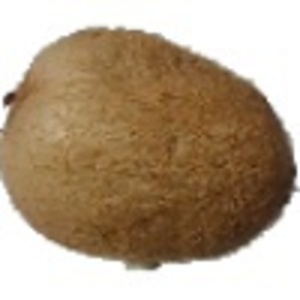kiwi: (1, 24, 297, 274)
